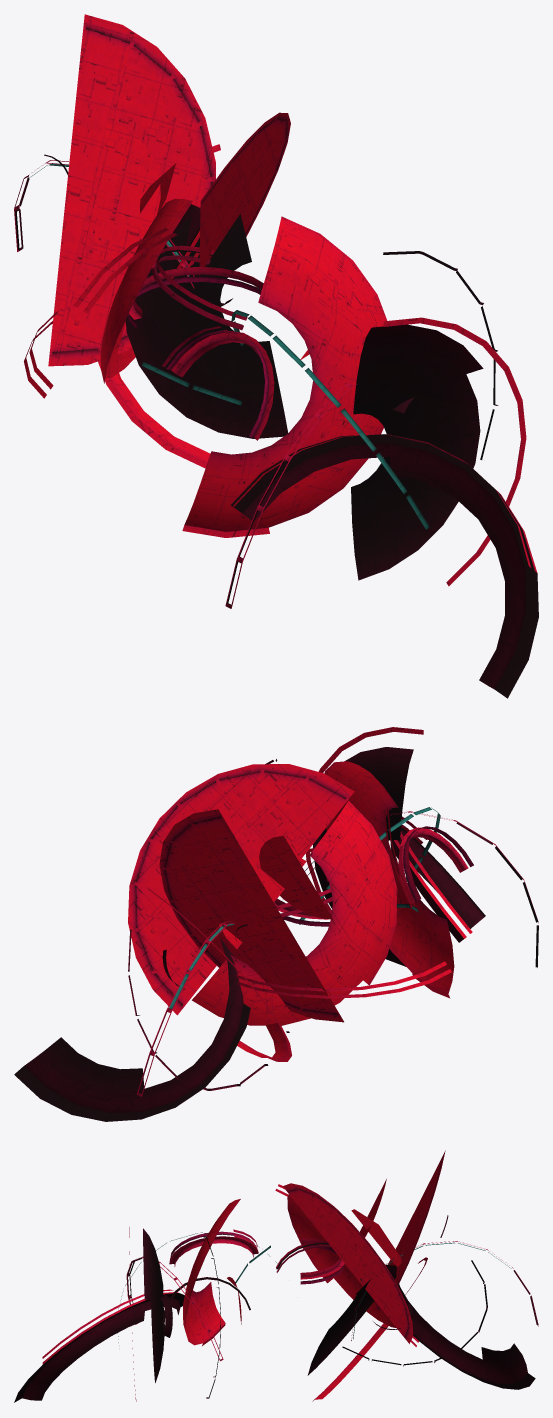
File: MonsterB_Die18.obj
3 views of the same model, one above another, from view 1: azimuth 30°, elevation 25°; view 2: azimuth 150°, elevation 25°; view 3: azimuth 270°, elevation 25° (orthographic). The views are drawn at different scales.
Visible parts, largest first — view 1: Sphere001; view 2: Sphere001; view 3: Sphere001.
Boxes of the visible parts, x1,y1,x2,y2 form: Sphere001: (14, 14, 538, 698); Sphere001: (14, 727, 538, 1121); Sphere001: (14, 1150, 538, 1402).
Bounding box in the file's own units: 248 × 262 × 520.
Materials: 1 (1 with a texture image).
